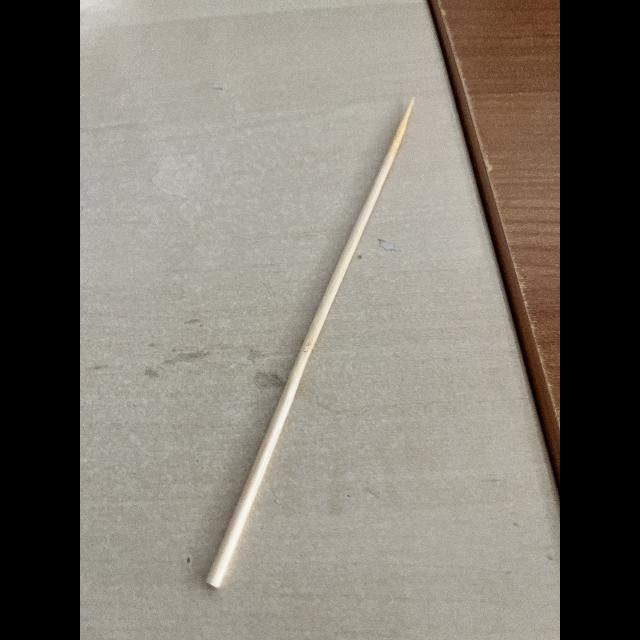stick: (201, 94, 421, 602)
